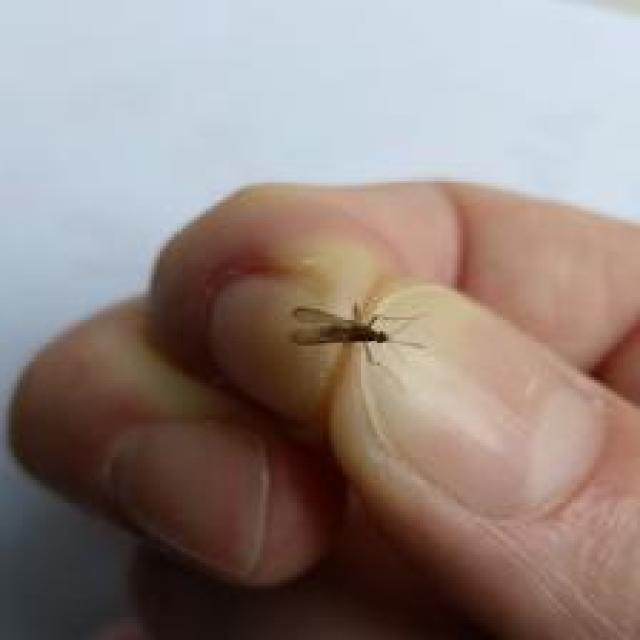Culex: (287, 297, 427, 366)
